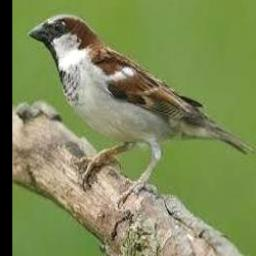Sparrow: (29, 13, 256, 206)
